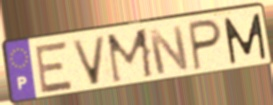E: (34, 39, 75, 96)
M: (104, 26, 157, 87), (221, 11, 269, 66)
N: (146, 24, 192, 77)
P: (187, 18, 224, 73)
V: (69, 34, 108, 88)
